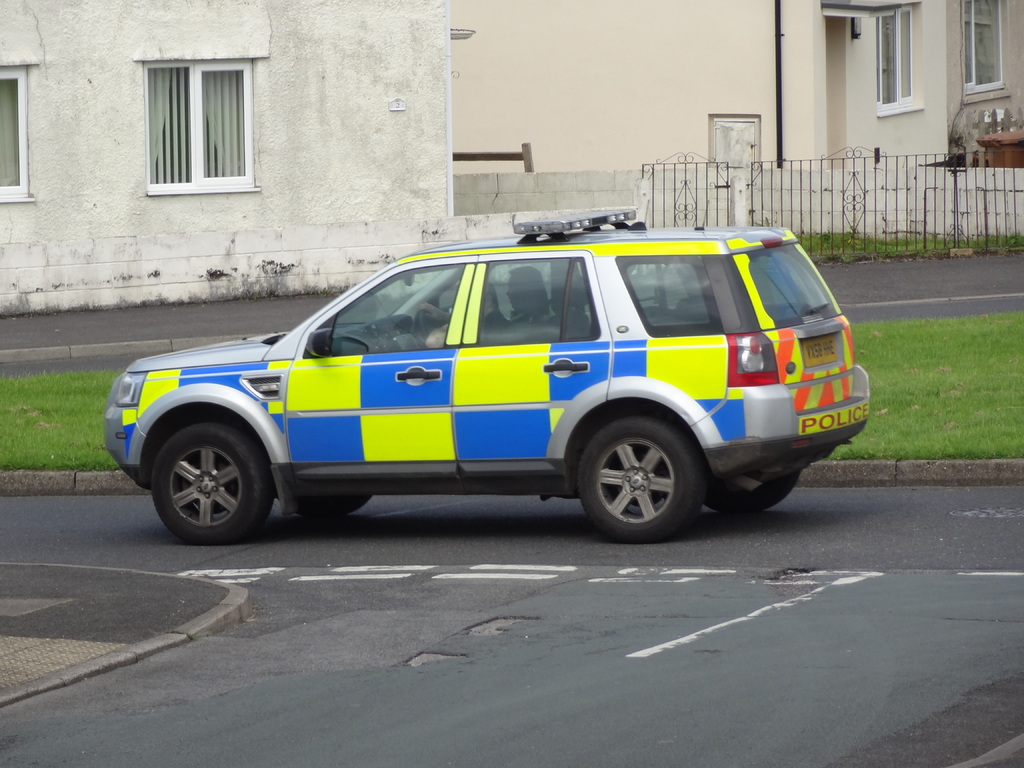Car: (82, 216, 848, 546)
